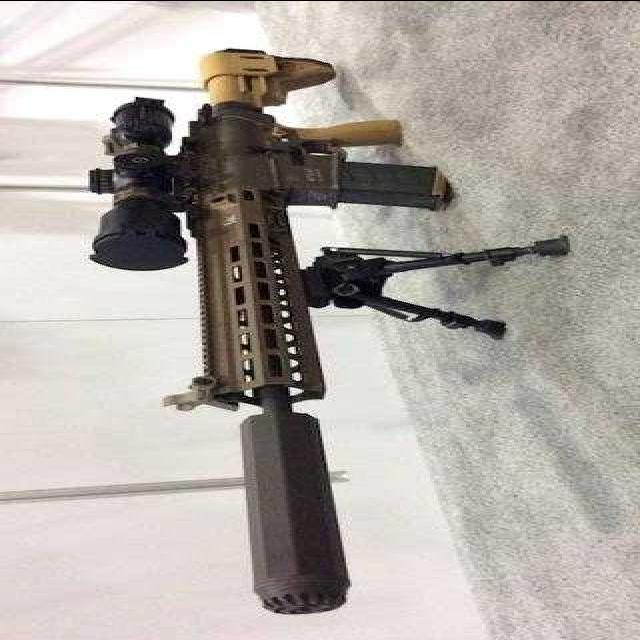heavyweapon: (89, 23, 459, 628)
